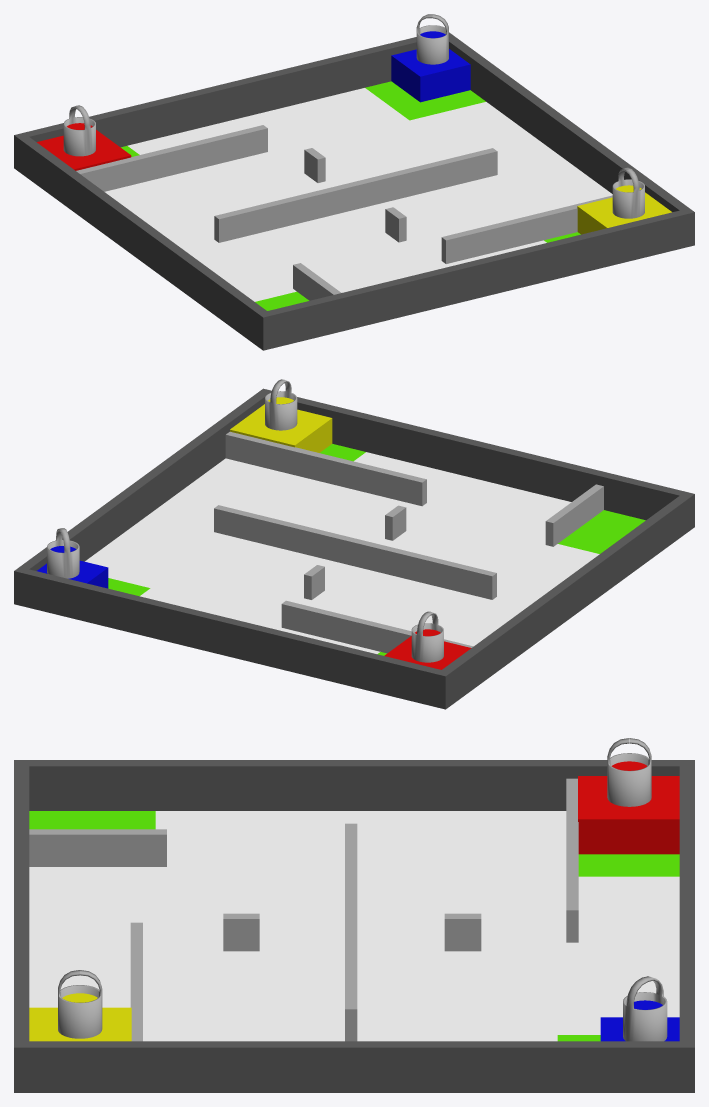
File: Arena.dae
The picture shows the model from 3 angles, top to bottom: view 1: azimuth 30°, elevation 25°; view 2: azimuth 150°, elevation 25°; view 3: azimuth 270°, elevation 25°; orthographic projection. The views are drawn at different scales.
Parts seen in each view (by area): view 1: Plane, Plane_001, Plane_003, Plane_002; view 2: Plane, Plane_003, Plane_002, Plane_001; view 3: Plane, Plane_002, Plane_003, Plane_001.
Part boxes in pixels (x1,y1,x2,y2): Plane: (14, 32, 694, 350); Plane_001: (391, 14, 470, 102); Plane_003: (577, 167, 671, 234); Plane_002: (37, 105, 131, 170); Plane: (14, 388, 694, 709); Plane_003: (230, 379, 332, 452); Plane_002: (384, 611, 471, 669); Plane_001: (37, 528, 108, 588); Plane: (14, 760, 694, 1092); Plane_002: (578, 738, 679, 854); Plane_003: (29, 970, 131, 1041); Plane_001: (600, 976, 679, 1041).
Size of the model in its own units: 6.61 by 6.61 by 1.
